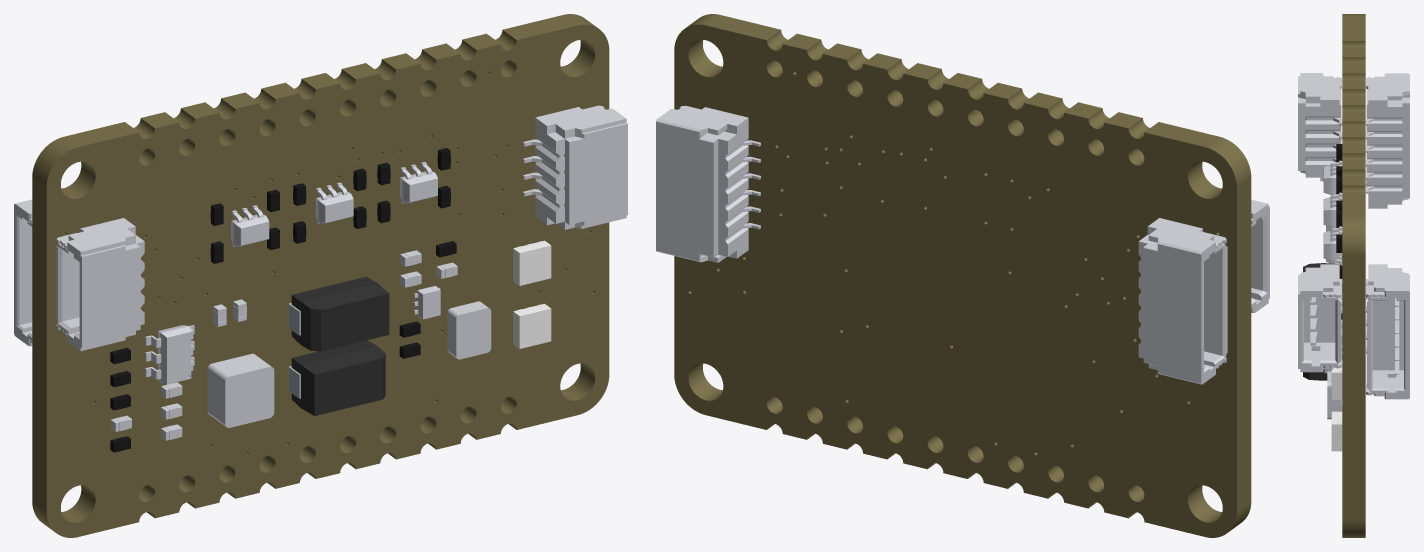
The model's file is unit_3d_v1_0_0_ue0106_I2C_qwiic_converter_module-00a769c62e6b.glb.
The picture shows the model from 3 angles, left to right: view 1: azimuth 30°, elevation 25°; view 2: azimuth 150°, elevation 25°; view 3: azimuth 270°, elevation 25°; orthographic projection. The views are drawn at different scales.
Parts seen in each view (by area): view 1: part-0, part-21, part-28, part-56, part-59, part-128, part-33, part-125, part-62, part-55, part-54, part-1 (+3 smaller); view 2: part-0, part-42, part-33, part-28; view 3: part-0, part-33, part-42, part-21, part-28, part-54, part-55, part-125, part-47, part-1, part-8, part-59 (+3 smaller).
Part boxes in pixels (box(x1,y1,x2,y2)): part-0: box(32, 14, 609, 537); part-21: box(535, 106, 627, 229); part-28: box(55, 218, 144, 350); part-56: box(291, 277, 389, 351); part-59: box(291, 340, 385, 415); part-128: box(207, 353, 274, 427); part-33: box(14, 199, 32, 346); part-125: box(447, 301, 491, 359); part-62: box(158, 325, 191, 384); part-55: box(513, 240, 551, 285); part-54: box(513, 303, 551, 348); part-1: box(315, 192, 353, 223); part-0: box(674, 14, 1251, 537); part-42: box(656, 106, 748, 262); part-33: box(1138, 218, 1227, 384); part-28: box(1251, 199, 1269, 312); part-0: box(1342, 14, 1365, 537); part-33: box(1366, 73, 1409, 208); part-42: box(1366, 264, 1409, 399); part-21: box(1298, 264, 1341, 372); part-28: box(1298, 73, 1341, 181); part-54: box(1331, 411, 1342, 451); part-55: box(1331, 360, 1342, 399); part-125: box(1327, 371, 1341, 419); part-47: box(1323, 230, 1339, 260); part-1: box(1323, 197, 1336, 226); part-8: box(1323, 165, 1336, 194); part-59: box(1303, 369, 1327, 380).
Bounding box in the file's own units: 35.56 × 23.54 × 7.48.
